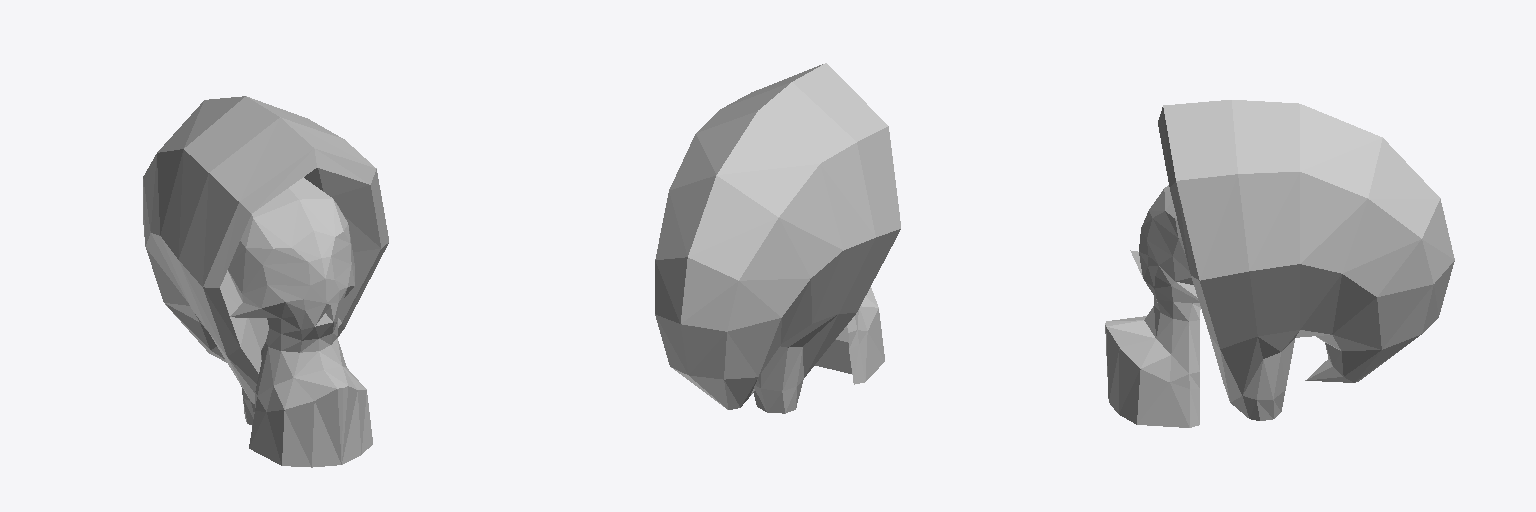
File: grim_cabeza.obj
3 views of the same model, side by side, from view 1: azimuth 30°, elevation 25°; view 2: azimuth 150°, elevation 25°; view 3: azimuth 270°, elevation 25° (orthographic).
Visible parts, largest first — view 1: cabeza; view 2: cabeza; view 3: cabeza.
Part boxes in pixels (bbox=[...]): cabeza: bbox=[143, 96, 388, 467]; cabeza: bbox=[655, 63, 900, 413]; cabeza: bbox=[1105, 100, 1454, 427].
Size of the model in its own units: 0.1842 by 0.2951 by 0.2991.